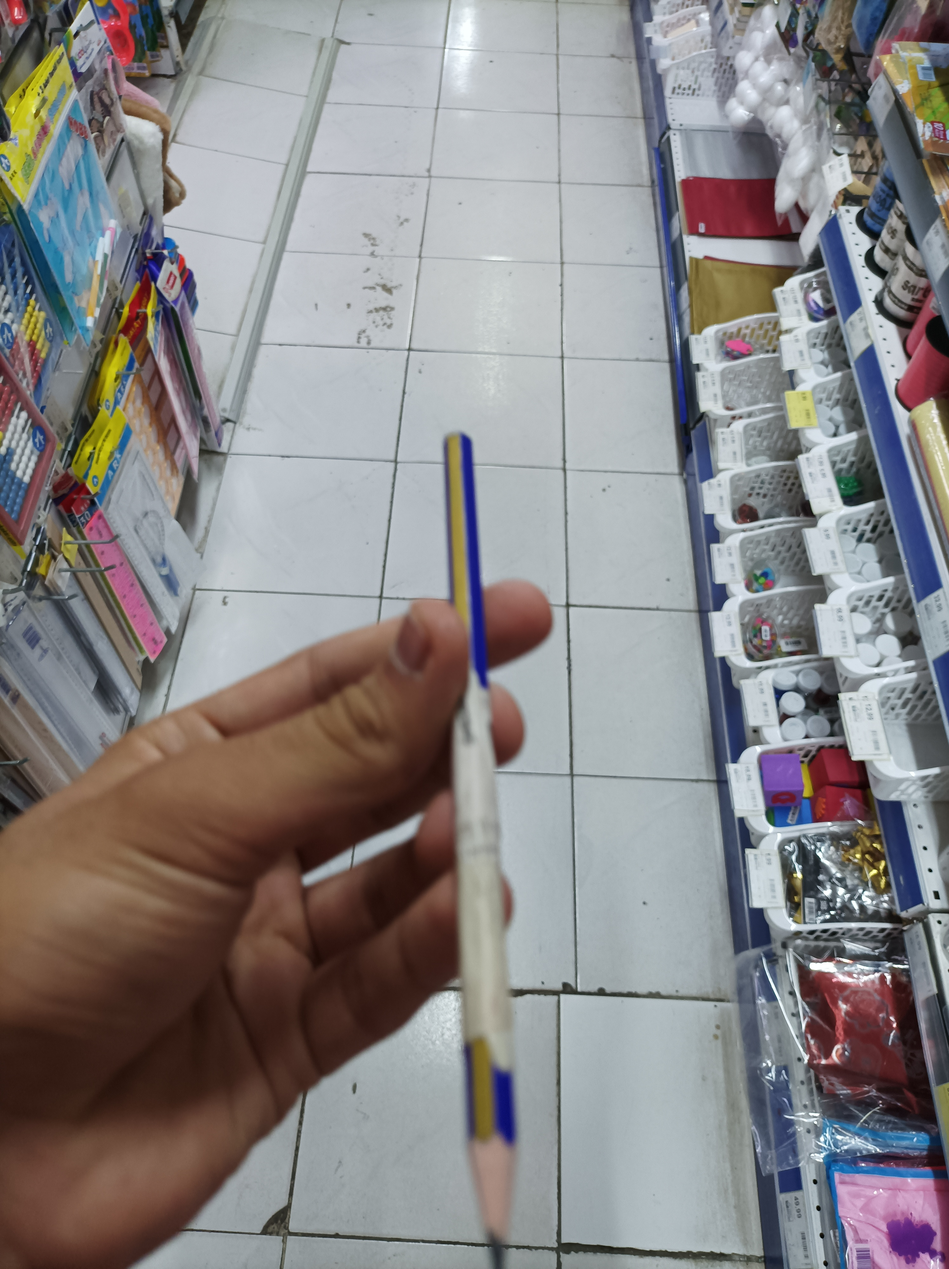plastic: (426, 416, 527, 1263)
